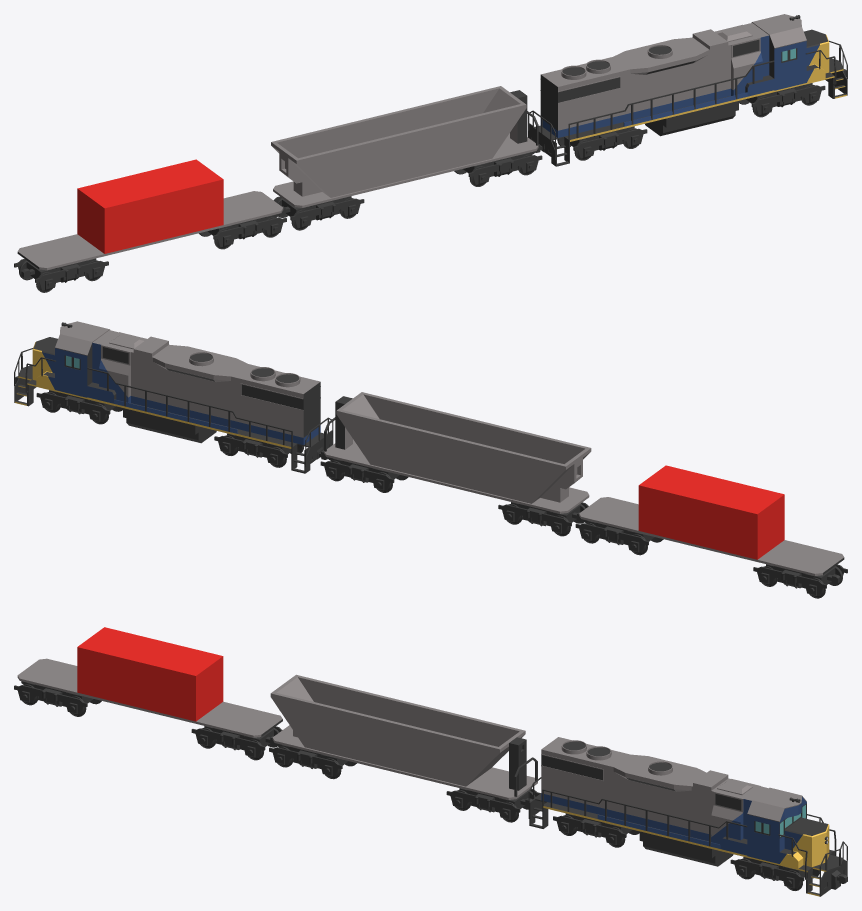
The model's file is train.glb.
3 views of the same model, one above another, from view 1: azimuth 30°, elevation 25°; view 2: azimuth 150°, elevation 25°; view 3: azimuth 330°, elevation 25° (orthographic).
Visible parts, largest first — view 1: Object_8, Object_10, Object_2, Object_9, Object_6, Object_11, Object_7; view 2: Object_8, Object_10, Object_2, Object_9, Object_6, Object_11, Object_7; view 3: Object_8, Object_2, Object_10, Object_9, Object_6, Object_7, Object_11.
Part boxes in pixels (bbox=[...]): Object_8: bbox=[18, 14, 806, 270]; Object_10: bbox=[19, 15, 847, 292]; Object_2: bbox=[77, 159, 223, 253]; Object_9: bbox=[14, 90, 542, 290]; Object_6: bbox=[540, 35, 819, 137]; Object_11: bbox=[276, 46, 816, 230]; Object_7: bbox=[570, 35, 846, 141]; Object_8: bbox=[55, 321, 843, 575]; Object_10: bbox=[14, 322, 842, 598]; Object_2: bbox=[638, 465, 784, 559]; Object_9: bbox=[320, 396, 847, 596]; Object_6: bbox=[42, 342, 320, 444]; Object_11: bbox=[44, 353, 585, 536]; Object_7: bbox=[15, 342, 291, 448]; Object_8: bbox=[17, 658, 806, 836]; Object_2: bbox=[77, 627, 223, 721]; Object_10: bbox=[22, 684, 847, 896]; Object_9: bbox=[14, 681, 540, 820]; Object_6: bbox=[541, 793, 806, 863]; Object_7: bbox=[543, 806, 829, 896]; Object_11: bbox=[277, 741, 819, 890].
Bounding box in the file's own units: 1.76 × 0.172 × 0.1121.
